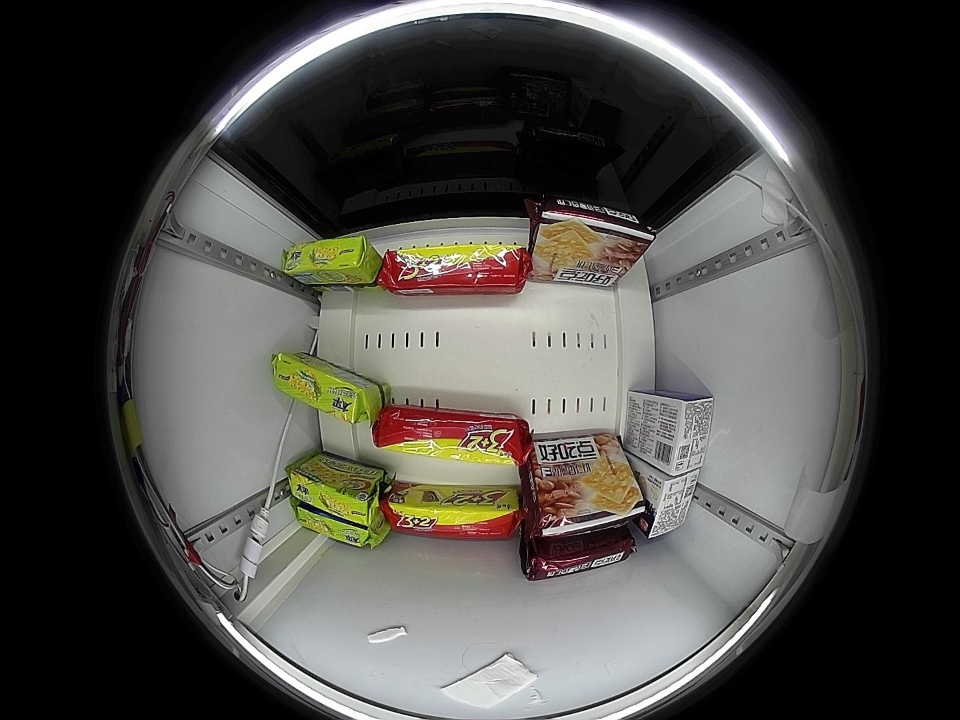3jia2: (376, 408, 526, 465), (381, 244, 527, 296), (385, 489, 519, 539)
haochidian: (528, 473, 645, 542), (526, 197, 656, 258), (521, 534, 637, 580)
meiniye: (648, 394, 715, 477), (639, 467, 700, 540)
taipingshuda: (270, 353, 373, 423), (288, 469, 379, 522), (281, 234, 376, 284), (294, 503, 386, 550)
